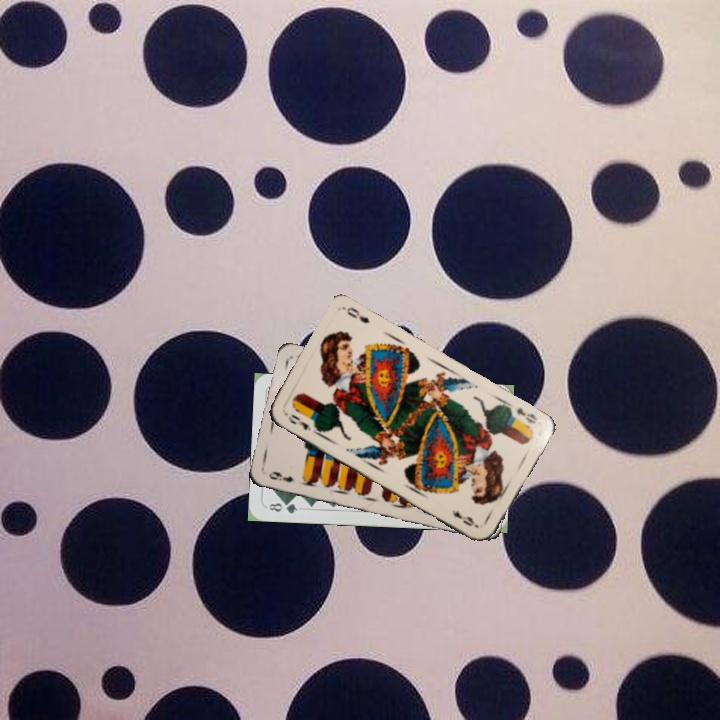E9: (265, 467, 297, 485)
EO: (284, 410, 314, 433), (512, 404, 540, 426)
G8: (265, 498, 300, 516)
